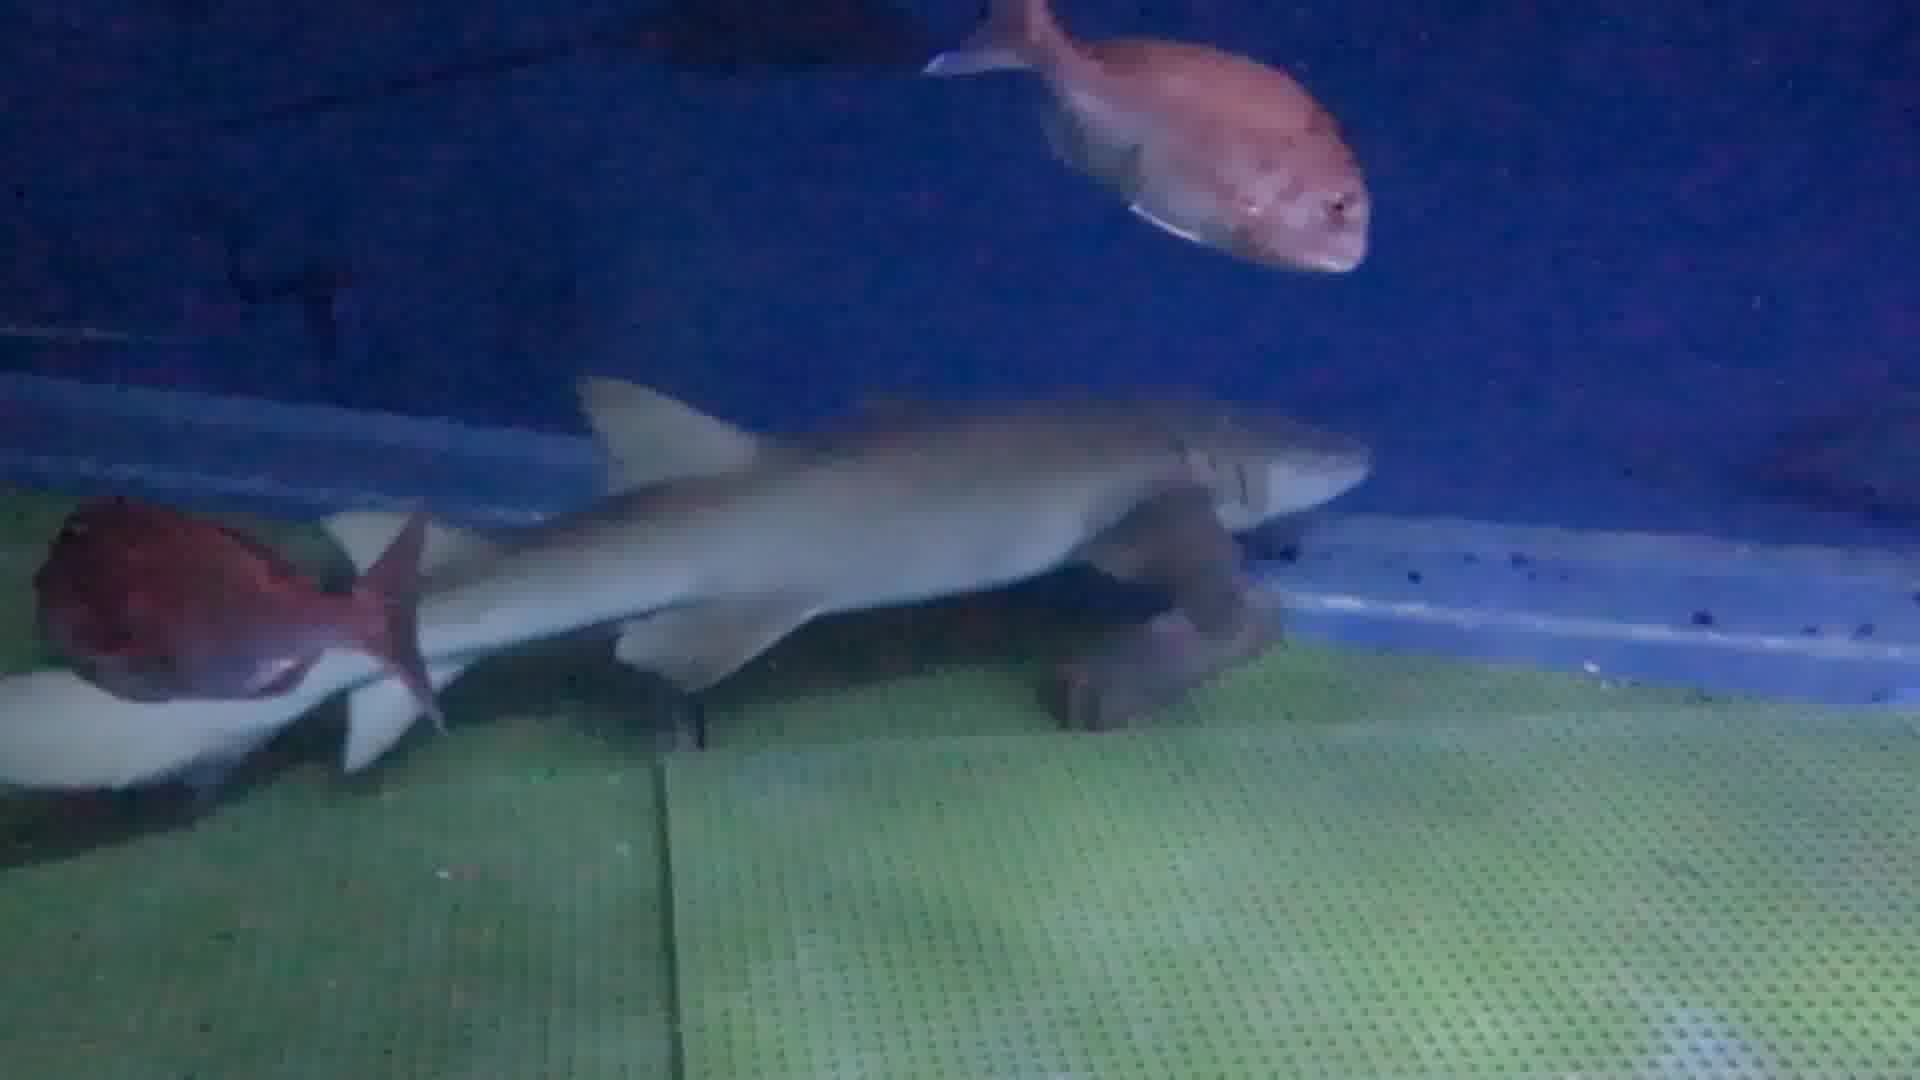Nebrius ferrugineus: (401, 340, 1361, 680)
